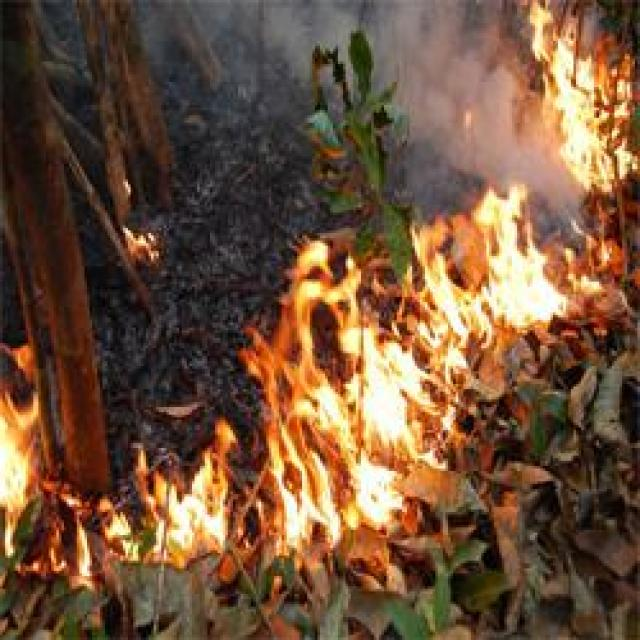fire: (468, 188, 534, 328), (546, 49, 602, 198), (342, 333, 415, 447), (156, 465, 236, 559)
smoke: (438, 68, 532, 180), (385, 6, 491, 84)
